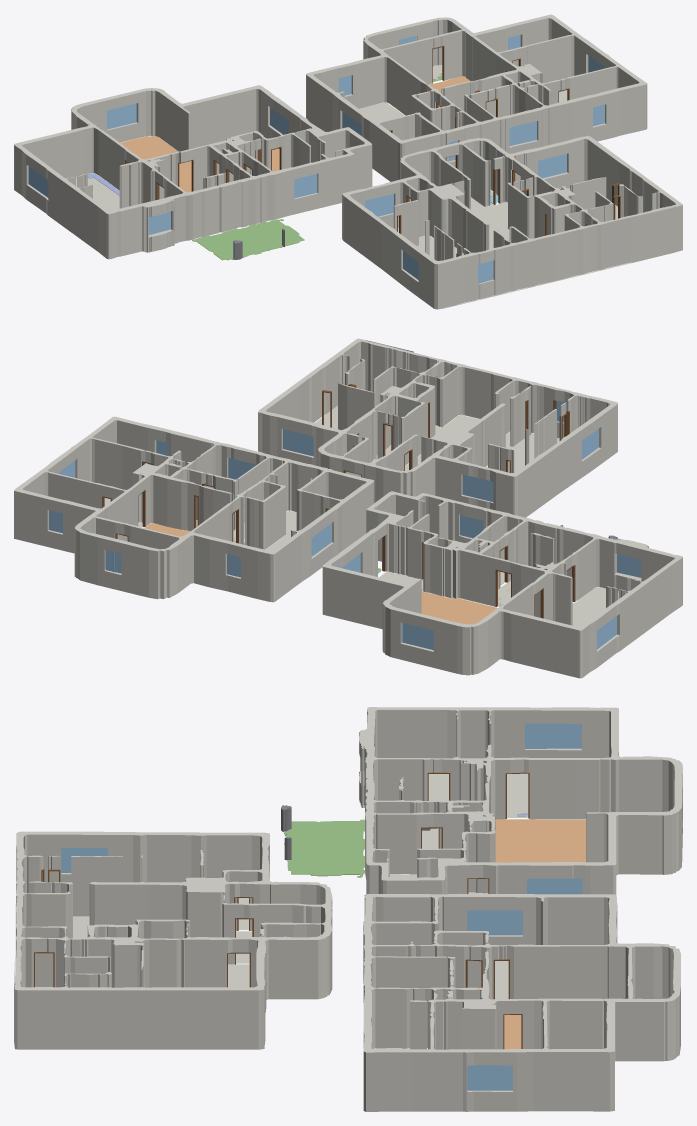
3 renders of one model, top to bottom at view 1: azimuth 30°, elevation 25°; view 2: azimuth 150°, elevation 25°; view 3: azimuth 270°, elevation 25°, orthographic. The views are drawn at different scales.
Visible parts, largest first — view 1: walls, floor_0_Outdoor, floor_5_Living_Room, floor_20_Undefined, floor_32_Undefined, window_36, window_55, window_52, floor_31_Undefined, window_54, window_50; view 2: walls, floor_5_Living_Room, floor_20_Undefined, floor_32_Undefined, window_54, window_36, window_55; view 3: walls, floor_0_Outdoor, floor_5_Living_Room, floor_32_Undefined, window_46, window_47, floor_20_Undefined, window_48, window_45, floor_4_Living_Room.
Boxes of the visible parts, x1=… form: walls: x1=14, y1=14, x2=682, y2=309; floor_0_Outdoor: x1=192, y1=219, x2=304, y2=260; floor_5_Living_Room: x1=120, y1=136, x2=279, y2=192; floor_20_Undefined: x1=398, y1=190, x2=509, y2=258; floor_32_Undefined: x1=69, y1=177, x2=119, y2=210; window_36: x1=107, y1=103, x2=136, y2=129; window_55: x1=538, y1=154, x2=566, y2=178; window_52: x1=509, y1=121, x2=536, y2=145; floor_31_Undefined: x1=359, y1=102, x2=404, y2=131; window_54: x1=365, y1=194, x2=393, y2=216; window_50: x1=294, y1=174, x2=317, y2=198; walls: x1=14, y1=338, x2=682, y2=678; floor_5_Living_Room: x1=421, y1=589, x2=497, y2=624; floor_20_Undefined: x1=371, y1=415, x2=559, y2=472; floor_32_Undefined: x1=572, y1=587, x2=618, y2=626; window_54: x1=462, y1=475, x2=493, y2=501; window_36: x1=402, y1=623, x2=433, y2=649; window_55: x1=283, y1=429, x2=313, y2=456; walls: x1=14, y1=707, x2=682, y2=1111; floor_0_Outdoor: x1=284, y1=819, x2=364, y2=877; floor_5_Living_Room: x1=495, y1=819, x2=586, y2=862; floor_32_Undefined: x1=428, y1=773, x2=528, y2=817; window_46: x1=525, y1=723, x2=581, y2=748; window_47: x1=467, y1=910, x2=522, y2=935; floor_20_Undefined: x1=73, y1=898, x2=249, y2=987; window_48: x1=467, y1=1065, x2=512, y2=1090; window_45: x1=527, y1=878, x2=582, y2=894; floor_4_Living_Room: x1=504, y1=1015, x2=521, y2=1049.
Bounding box in the file's own units: 33.7 × 2.72 × 27.57.
